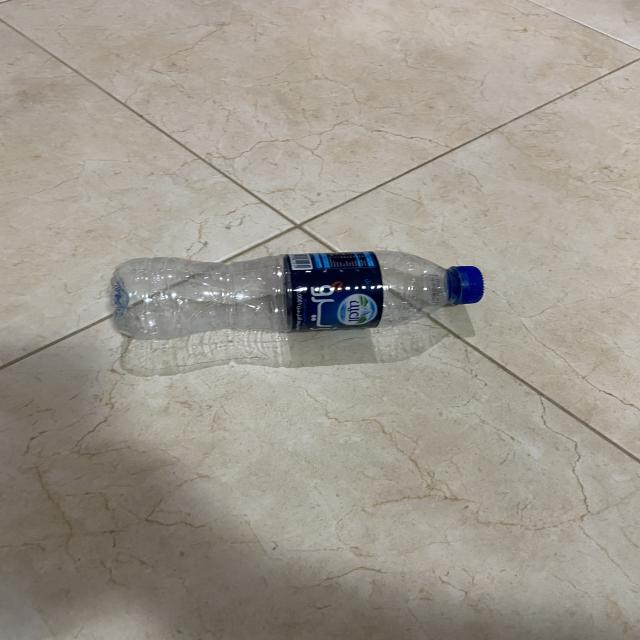bottle: (104, 250, 500, 348)
